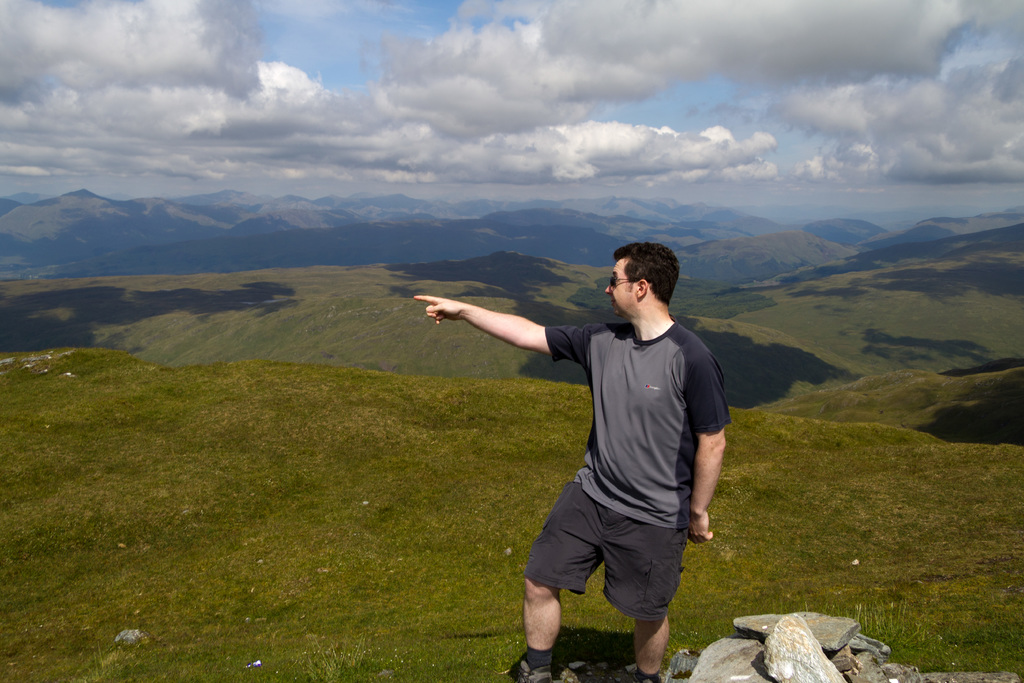Footwear: (513, 661, 549, 682)
